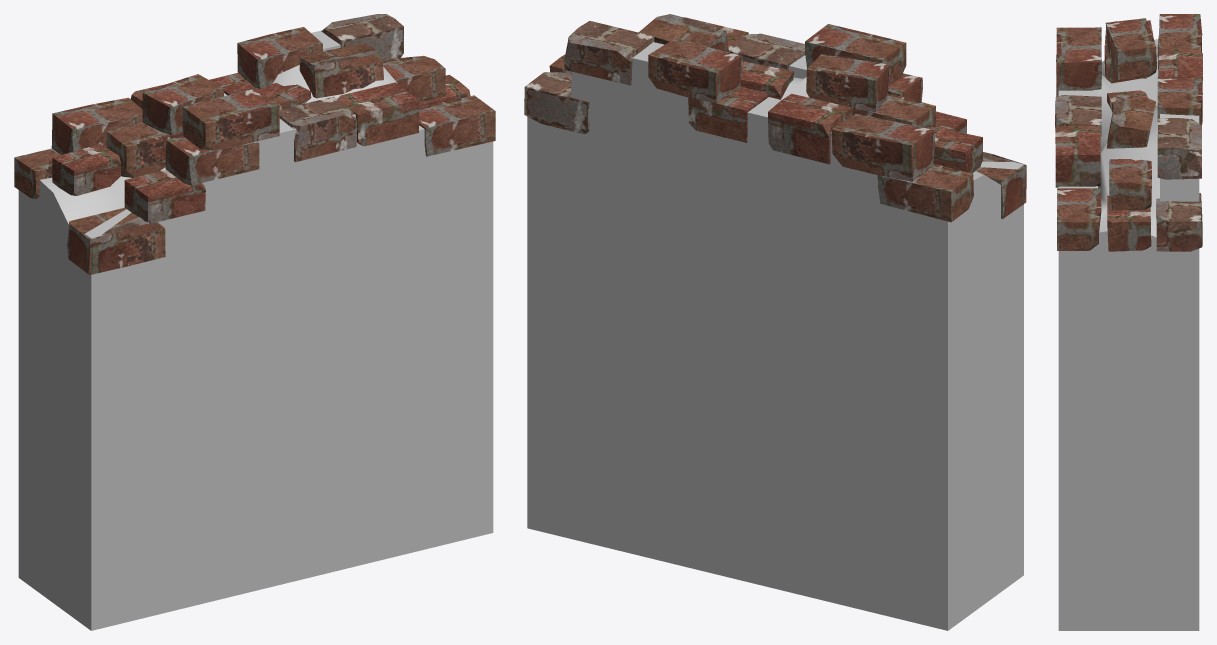
The model's file is SM_Wall_Thick_Ruined_011.fbx.
3 renders of one model, left to right at view 1: azimuth 30°, elevation 25°; view 2: azimuth 150°, elevation 25°; view 3: azimuth 270°, elevation 25°, orthographic. The views are drawn at different scales.
Visible parts, largest first — view 1: SM_Wall_Thick_Ruined_011_LOD0; view 2: SM_Wall_Thick_Ruined_011_LOD0; view 3: SM_Wall_Thick_Ruined_011_LOD0.
Boxes of the visible parts, x1,y1,x2,y2 form: SM_Wall_Thick_Ruined_011_LOD0: [14, 14, 495, 630]; SM_Wall_Thick_Ruined_011_LOD0: [524, 14, 1026, 630]; SM_Wall_Thick_Ruined_011_LOD0: [1055, 14, 1202, 630].
Size of what is drawn, in the model's own units: 407 by 458 by 131.
